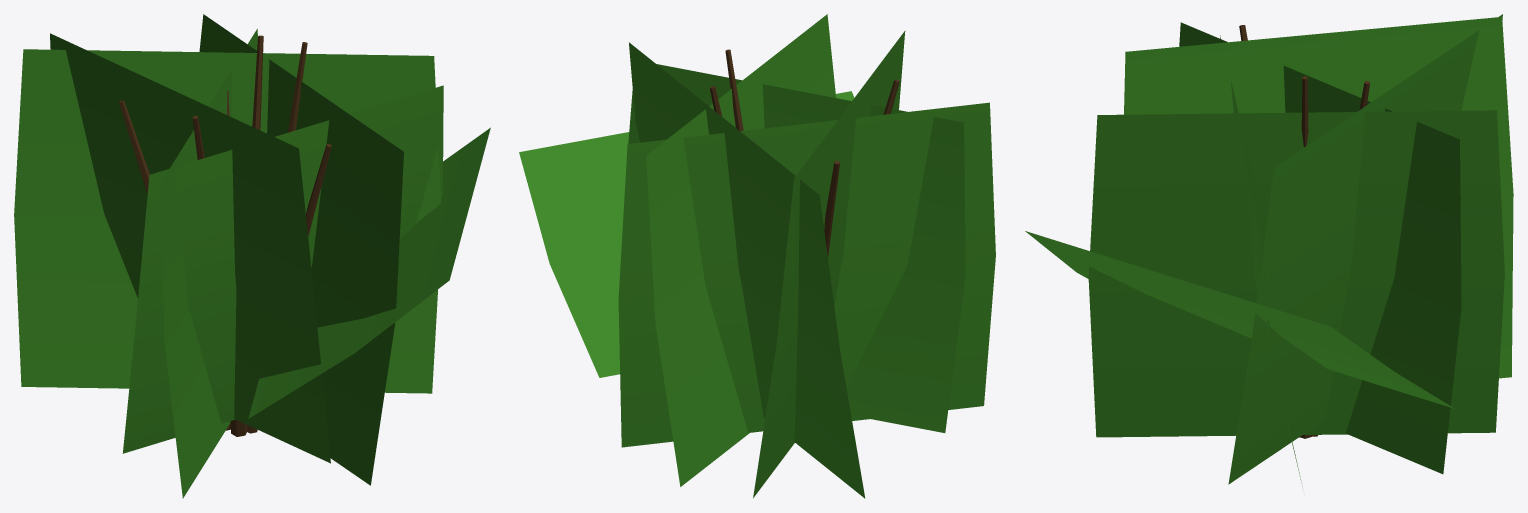
File: shrub_wild.glb
The picture shows the model from 3 angles, left to right: view 1: azimuth 30°, elevation 25°; view 2: azimuth 150°, elevation 25°; view 3: azimuth 270°, elevation 25°; orthographic projection. The views are drawn at different scales.
Visible parts, largest first — view 1: Shrub_Wild; view 2: Shrub_Wild; view 3: Shrub_Wild.
Boxes of the visible parts, left/top/right/bottom form: Shrub_Wild: left=14, top=14, right=490, bottom=498; Shrub_Wild: left=519, top=14, right=995, bottom=498; Shrub_Wild: left=1025, top=14, right=1513, bottom=486.
Size of the model in its own units: 1.91 by 1.66 by 1.89.
Materials: 2 (1 with a texture image).
